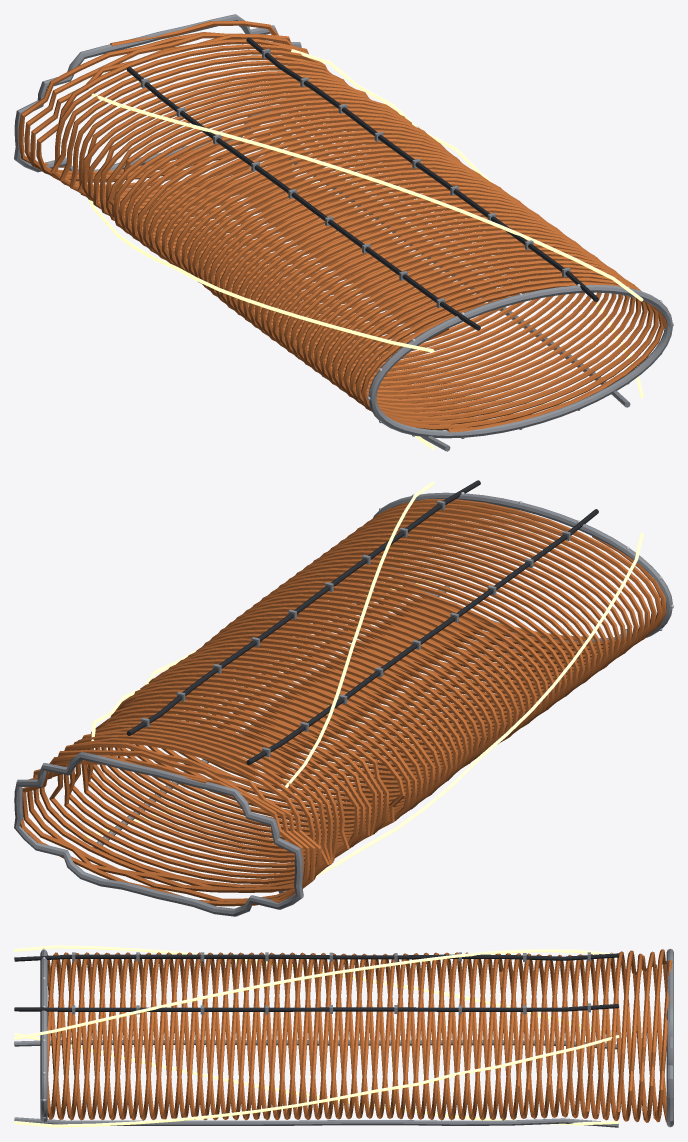
The model's file is bastion_engine_lg.fbx.
3 renders of one model, top to bottom at view 1: azimuth 30°, elevation 25°; view 2: azimuth 150°, elevation 25°; view 3: azimuth 270°, elevation 25°, orthographic. The views are drawn at different scales.
Parts seen in each view (by area): view 1: Engine_Legendary; view 2: Engine_Legendary; view 3: Engine_Legendary.
Part boxes in pixels (x1,y1,x2,y2): Engine_Legendary: (14, 14, 673, 451); Engine_Legendary: (14, 480, 673, 916); Engine_Legendary: (14, 945, 673, 1127).
Bounding box in the file's own units: 124 × 53.47 × 259.
